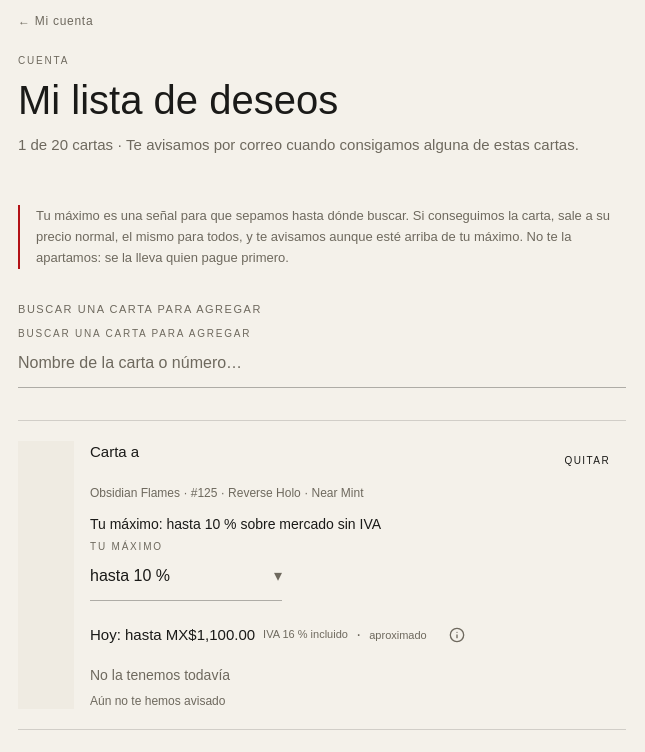
Test: §WSH-UX.4 · el renglón de un deseo (WSH-F2) › PATCH `404` ⇒ el renglón se retira con «Esa carta ya no estaba en tu lista.»
Select "hasta 5 %" in the dropdown labelled "Tu máximo" at {"x": 186, "y": 576}, box [90,564,282,588]
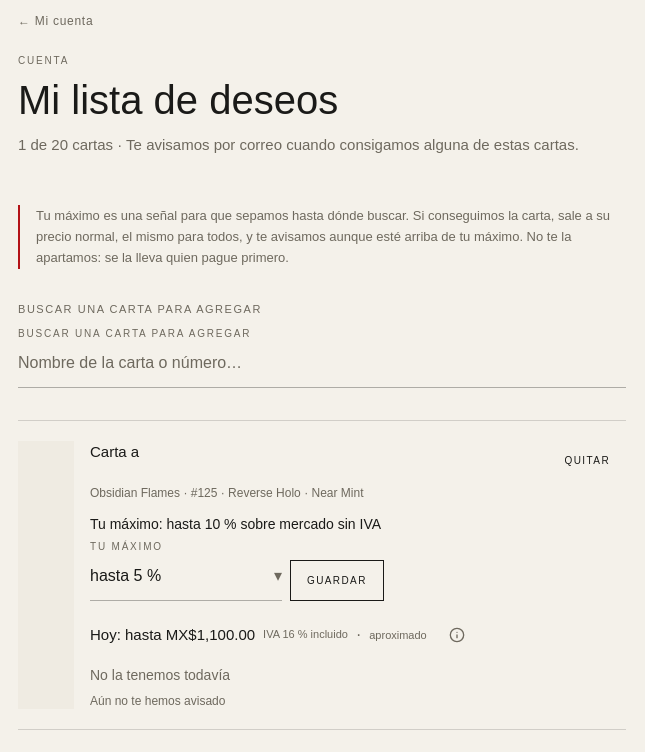
Click the button "Guardar".
click(337, 581)  # box [290,560,384,601]
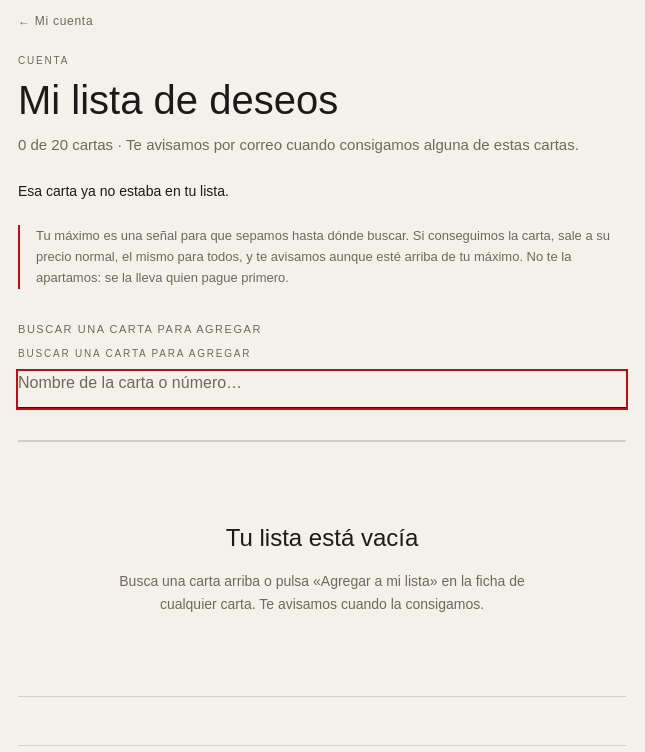
Expected: the text "Esa carta ya no estaba en tu lista." is shown, [18,182,229,198]
